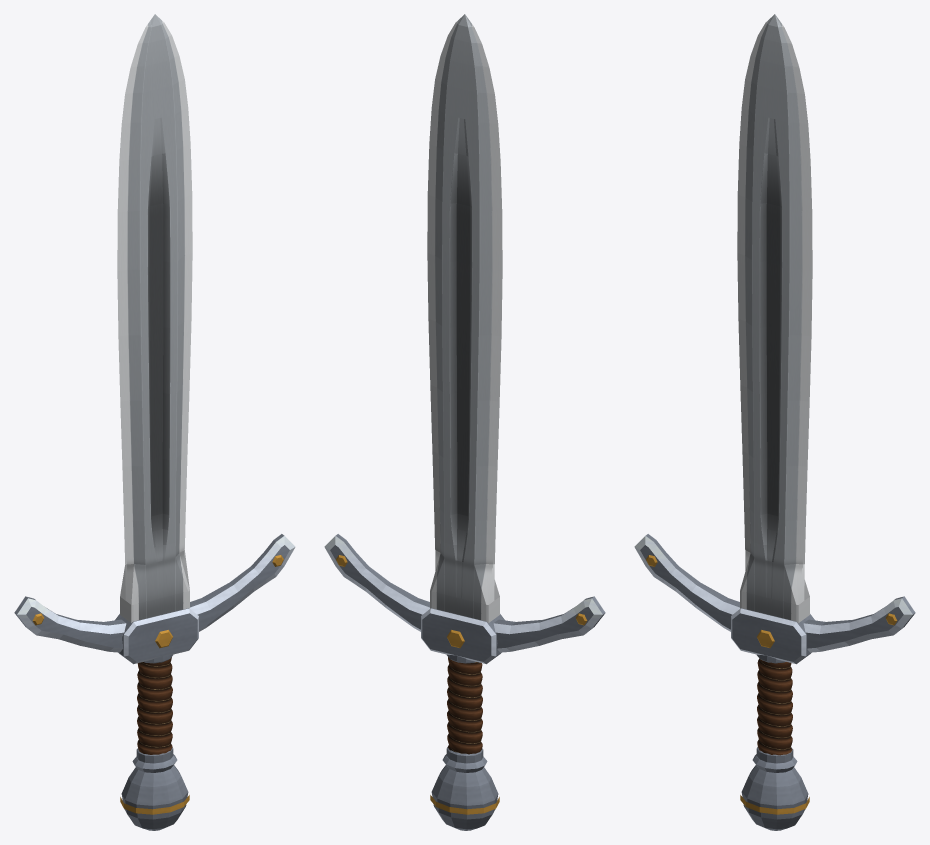
Rendered from sword_base.glb.
The picture shows the model from 3 angles, left to right: view 1: azimuth 30°, elevation 25°; view 2: azimuth 150°, elevation 25°; view 3: azimuth 330°, elevation 25°; orthographic projection.
Visible parts, largest first — view 1: Sword_LOD0; view 2: Sword_LOD0; view 3: Sword_LOD0.
Boxes of the visible parts, box(x1,y1,x2,y2) form: Sword_LOD0: box(14, 14, 295, 830); Sword_LOD0: box(324, 14, 605, 830); Sword_LOD0: box(634, 14, 915, 830).
Size of what is drawn, in the model's own units: 0.4 by 1.12 by 0.0765.
3 materials, 3 textured.
